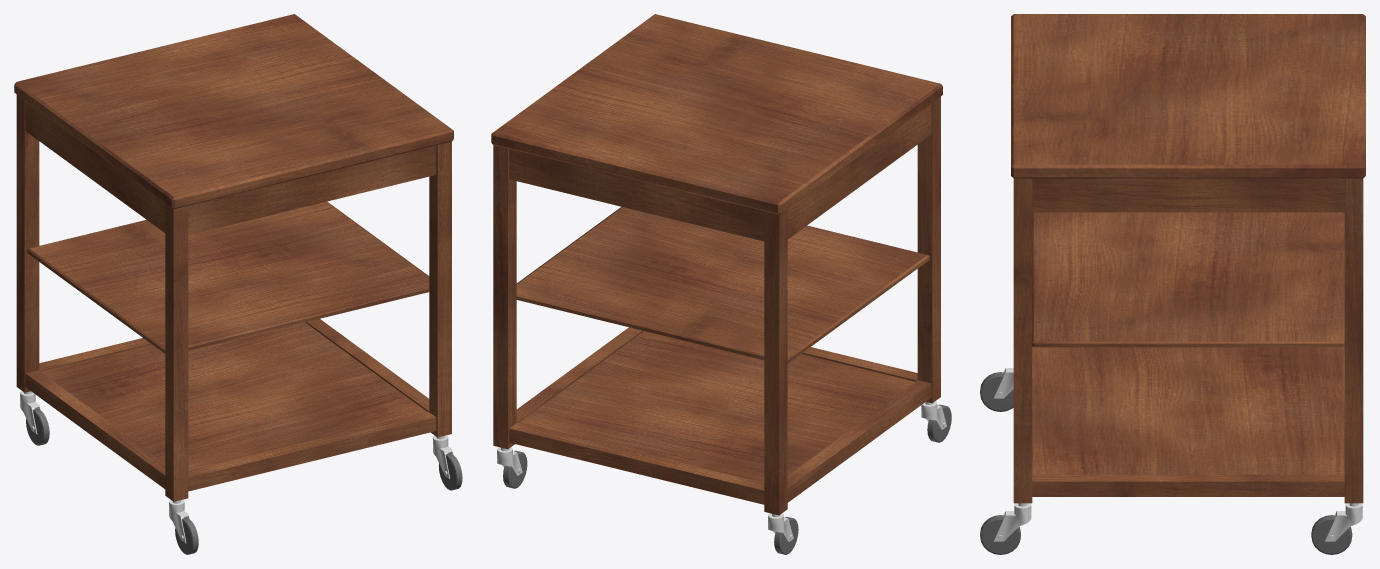
Rendered from wagon_c02.fbx.
The picture shows the model from 3 angles, left to right: view 1: azimuth 30°, elevation 25°; view 2: azimuth 150°, elevation 25°; view 3: azimuth 270°, elevation 25°; orthographic projection. The views are drawn at different scales.
Parts seen in each view (by area): view 1: wagon_c02; view 2: wagon_c02; view 3: wagon_c02.
Part boxes in pixels (x1,y1,x2,y2): wagon_c02: (14, 14, 462, 554); wagon_c02: (491, 14, 951, 554); wagon_c02: (980, 14, 1365, 554).
Bounding box in the file's own units: 60.59 × 72.51 × 64.56.
Materials: 3 (1 with a texture image).
